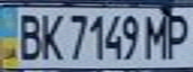1: (84, 11, 106, 60)
4: (103, 11, 124, 61)
7: (66, 10, 87, 61)
9: (121, 11, 145, 61)
B: (12, 10, 45, 61)
K: (36, 9, 66, 61)
M: (142, 10, 172, 60)
P: (160, 8, 193, 60)
